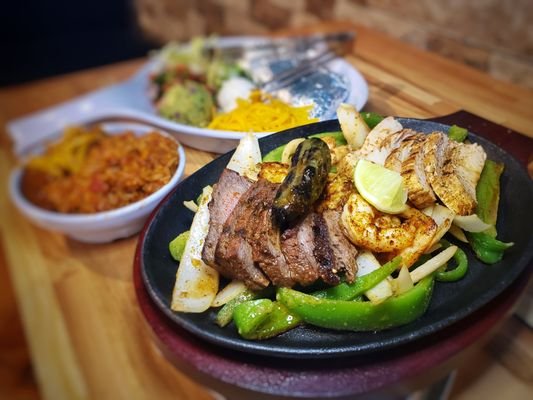curry: (156, 81, 214, 129)
sushi: (8, 113, 186, 245)
